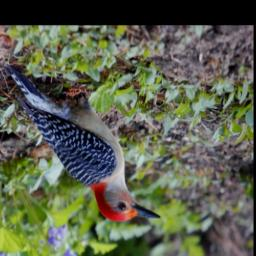Woodpecker: (3, 64, 161, 223)
